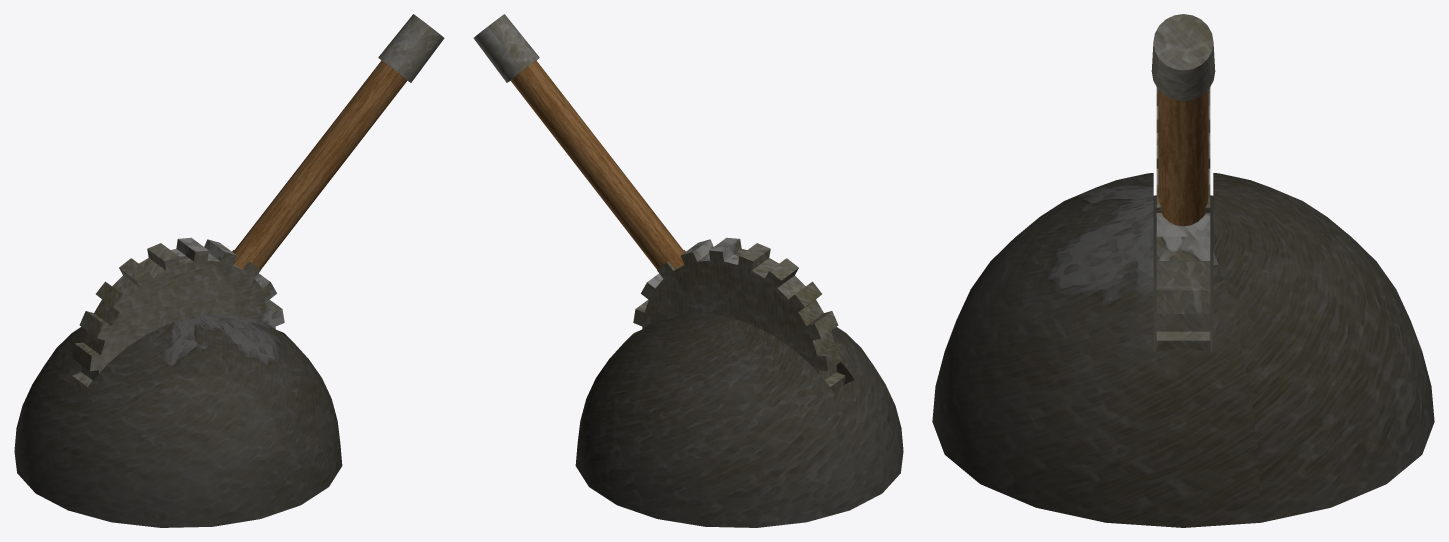
Rendered from leverModel.fbx.
3 views of the same model, side by side, from view 1: azimuth 30°, elevation 25°; view 2: azimuth 150°, elevation 25°; view 3: azimuth 270°, elevation 25° (orthographic). The views are drawn at different scales.
Parts seen in each view (by area): view 1: base, pCylinder3; view 2: base, pCylinder3; view 3: base, pCylinder3.
Boxes of the visible parts, x1=… form: base: x1=14, y1=314, x2=342, y2=527; pCylinder3: x1=72, y1=14, x2=444, y2=393; base: x1=575, y1=314, x2=903, y2=527; pCylinder3: x1=473, y1=14, x2=845, y2=393; base: x1=932, y1=173, x2=1434, y2=527; pCylinder3: x1=1151, y1=14, x2=1215, y2=351.
Size of the model in its own units: 1.42 by 1.29 by 1.
